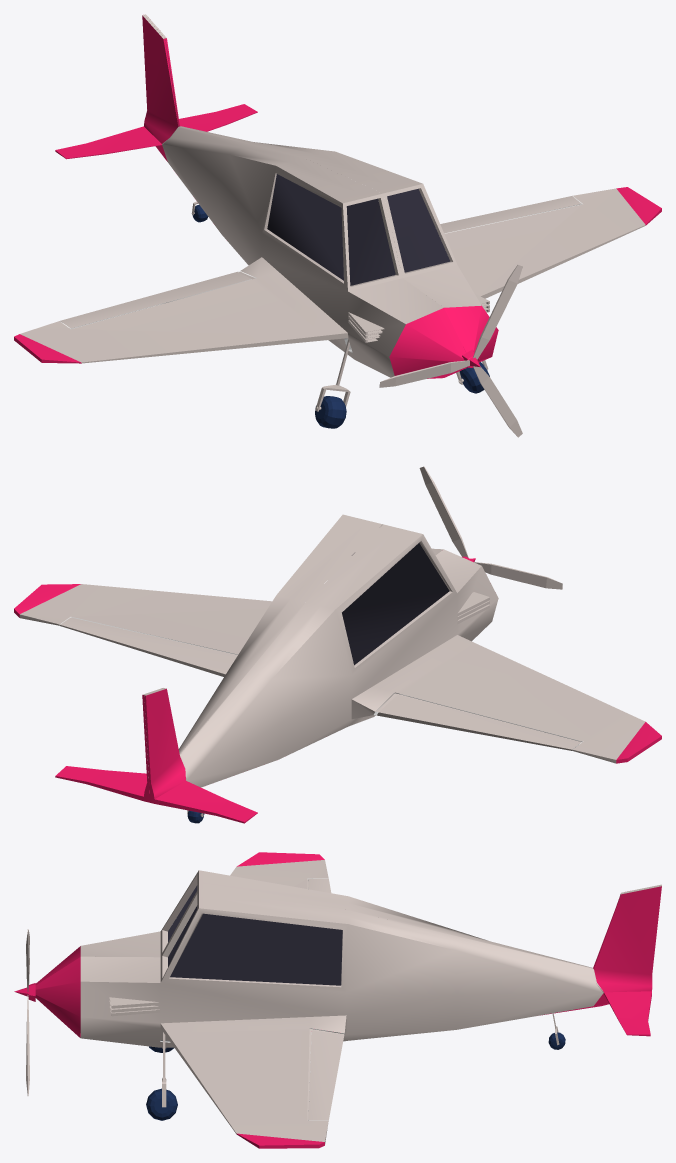
File: plane_prop.glb
3 renders of one model, top to bottom at view 1: azimuth 30°, elevation 25°; view 2: azimuth 150°, elevation 25°; view 3: azimuth 270°, elevation 25°, orthographic. The views are drawn at different scales.
Parts seen in each view (by area): view 1: Cube_1_3, Cube_3, Propeller_1, Wheel_4; view 2: Cube_1_3, Cube_3, Propeller_1; view 3: Cube_1_3, Cube_3, Propeller_1, Wheel_2.
Part boxes in pixels (left/top/right/bottom): Cube_1_3: left=14, top=14, right=661, bottom=378; Cube_3: left=17, top=38, right=464, bottom=373; Propeller_1: left=379, top=264, right=522, bottom=437; Wheel_4: left=315, top=396, right=346, bottom=428; Cube_1_3: left=14, top=514, right=661, bottom=823; Cube_3: left=144, top=539, right=661, bottom=823; Propeller_1: left=419, top=466, right=562, bottom=589; Cube_1_3: left=35, top=853, right=661, bottom=1148; Cube_3: left=80, top=852, right=620, bottom=968; Propeller_1: left=14, top=929, right=35, bottom=1095; Wheel_2: left=146, top=1088, right=177, bottom=1120.
Size of the model in its own units: 2.09 by 0.6676 by 1.96.
